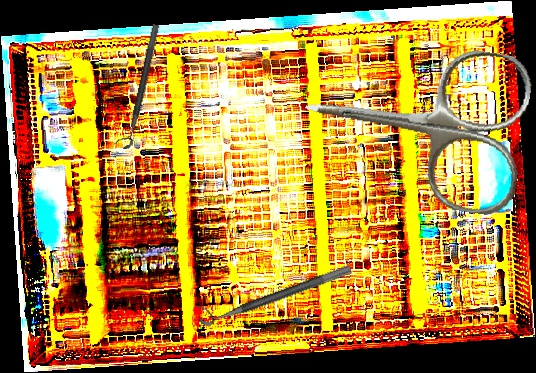Fixation Ring: (194, 251, 353, 329), (113, 21, 161, 151)
Iris Scissors: (293, 25, 536, 219)
